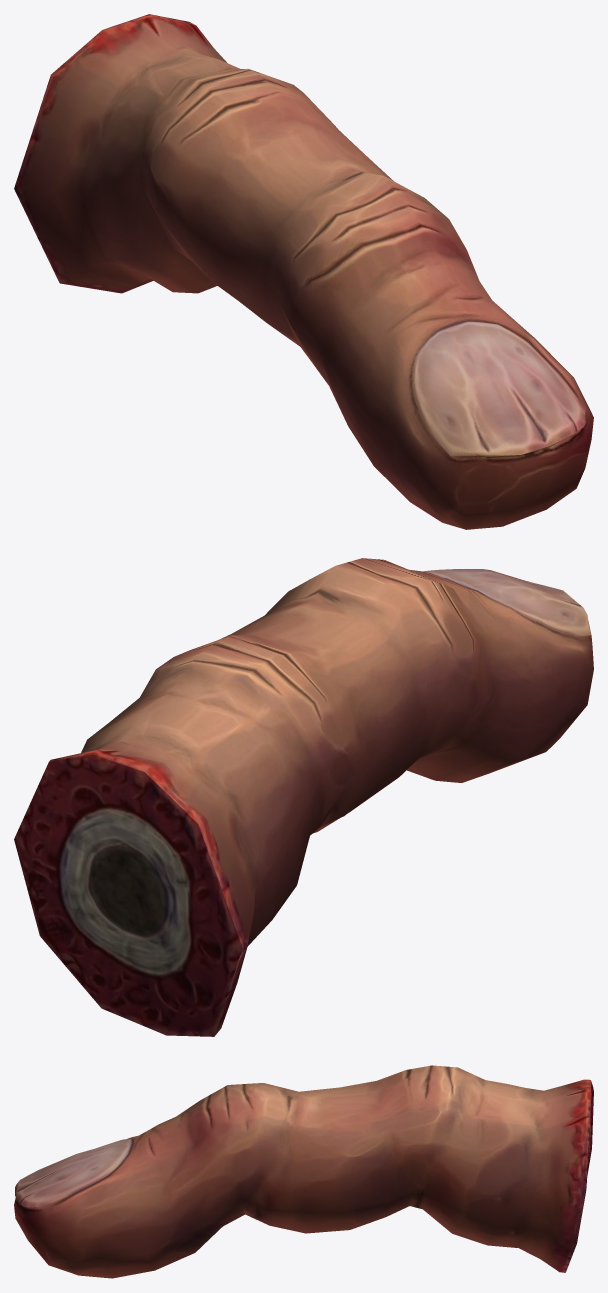
The model's file is Finger.fbx.
3 views of the same model, one above another, from view 1: azimuth 30°, elevation 25°; view 2: azimuth 150°, elevation 25°; view 3: azimuth 270°, elevation 25° (orthographic). The views are drawn at different scales.
Visible parts, largest first — view 1: finger_low_finger_0; view 2: finger_low_finger_0; view 3: finger_low_finger_0.
Part boxes in pixels (left/top/right/bottom): finger_low_finger_0: left=14, top=14, right=593, bottom=529; finger_low_finger_0: left=14, top=558, right=593, bottom=1036; finger_low_finger_0: left=14, top=1065, right=593, bottom=1278.
Bounding box in the file's own units: 4.23 × 5.02 × 13.5.
